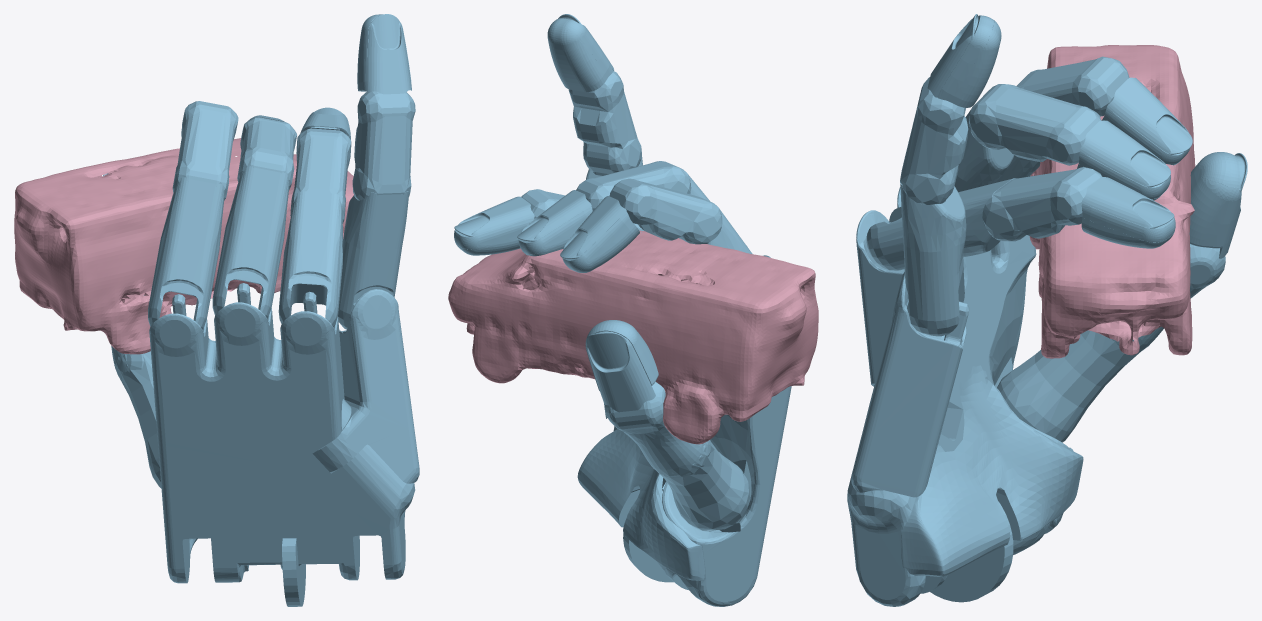
The picture shows the model from 3 angles, left to right: view 1: azimuth 30°, elevation 25°; view 2: azimuth 150°, elevation 25°; view 3: azimuth 270°, elevation 25°; orthographic projection. The views are drawn at different scales.
Visible parts, largest first — view 1: hand, world; view 2: hand, world; view 3: hand, world.
Boxes of the visible parts, x1,y1,x2,y2 form: hand: (103, 14, 419, 606); world: (14, 138, 353, 354); hand: (454, 14, 791, 606); world: (448, 230, 818, 444); hand: (847, 14, 1247, 606); world: (1029, 45, 1195, 358).
Size of the model in its own units: 0.1317 by 0.2052 by 0.117.
